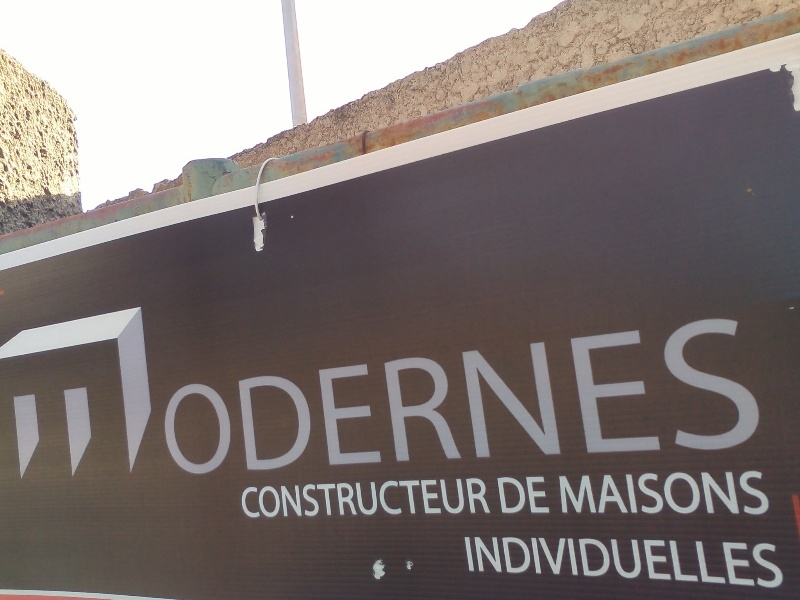text: (17, 202, 32, 482), (33, 202, 48, 482), (49, 202, 64, 482), (65, 202, 80, 482), (81, 202, 96, 482), (97, 202, 112, 482), (113, 202, 128, 482), (129, 202, 144, 482), (145, 202, 160, 482), (161, 202, 176, 482), (177, 202, 192, 482), (193, 202, 208, 482), (209, 202, 224, 482), (225, 202, 240, 482), (241, 202, 256, 482), (257, 202, 272, 482), (273, 202, 288, 482), (289, 202, 304, 482), (305, 202, 320, 482), (321, 202, 336, 482), (337, 202, 352, 482), (353, 202, 368, 482), (369, 202, 384, 482), (385, 202, 400, 482), (401, 202, 416, 482), (417, 202, 432, 482), (433, 202, 448, 482), (449, 202, 464, 482), (465, 202, 480, 482), (481, 202, 496, 482), (497, 202, 512, 482), (513, 202, 528, 482), (529, 202, 544, 482), (545, 202, 560, 482), (561, 202, 576, 482), (577, 202, 592, 482), (593, 202, 608, 482), (609, 202, 624, 482), (625, 202, 640, 482), (641, 202, 656, 482), (657, 202, 672, 482), (673, 202, 688, 482), (689, 202, 704, 482), (705, 202, 720, 482), (721, 202, 736, 482), (737, 202, 752, 482), (753, 202, 768, 482), (3, 202, 16, 482), (465, 533, 480, 591), (481, 533, 496, 591), (497, 533, 512, 591), (513, 533, 528, 591), (529, 533, 544, 591), (545, 533, 560, 591), (561, 533, 576, 591), (577, 533, 592, 591), (593, 533, 608, 591), (609, 533, 624, 591), (625, 533, 640, 591), (641, 533, 656, 591), (657, 533, 672, 591), (673, 533, 688, 591), (689, 533, 704, 591), (705, 533, 720, 591), (721, 533, 736, 591), (737, 533, 752, 591), (753, 533, 768, 591), (769, 533, 784, 591), (561, 471, 576, 518), (577, 471, 592, 518), (593, 471, 608, 518), (609, 471, 624, 518), (625, 471, 640, 518), (641, 471, 656, 518), (657, 471, 672, 518), (673, 471, 688, 518), (689, 471, 704, 518), (705, 471, 720, 518), (721, 471, 736, 518), (737, 471, 752, 518), (753, 471, 768, 518), (241, 476, 256, 521), (257, 476, 272, 521), (273, 476, 288, 521), (289, 476, 304, 521), (305, 476, 320, 521), (321, 476, 336, 521), (337, 476, 352, 521), (353, 476, 368, 521), (369, 476, 384, 521), (385, 476, 400, 521), (401, 476, 416, 521), (417, 476, 432, 521), (433, 476, 448, 521), (449, 476, 464, 521), (465, 476, 480, 521), (497, 473, 512, 517), (513, 473, 528, 517), (529, 473, 544, 517), (481, 476, 493, 521), (545, 473, 554, 517), (769, 471, 775, 518), (556, 471, 560, 518), (236, 476, 240, 521), (461, 533, 464, 591), (785, 533, 788, 591), (494, 473, 496, 517)
